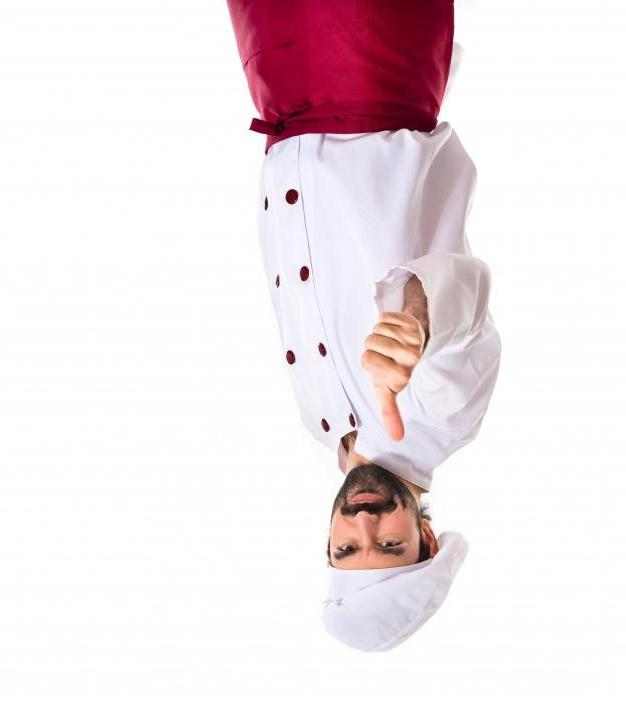thumbsdown: (362, 311, 425, 442)
